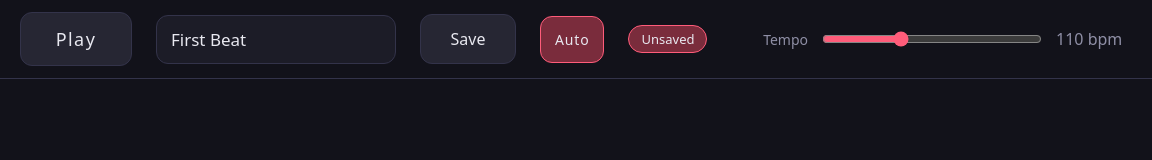
Transport › starts the pattern and offers to stop
Click the button "Play". click: click(76, 39)
box: [20,12,132,66]
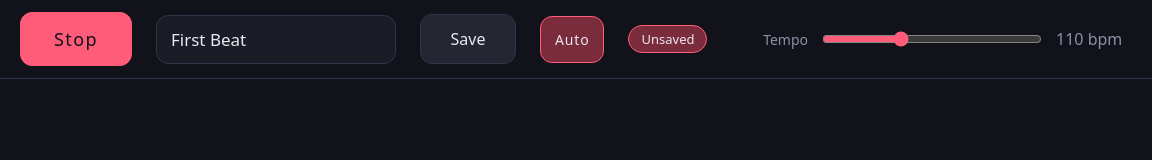
Expected: the button "Stop" is shown, [20,12,132,66]
